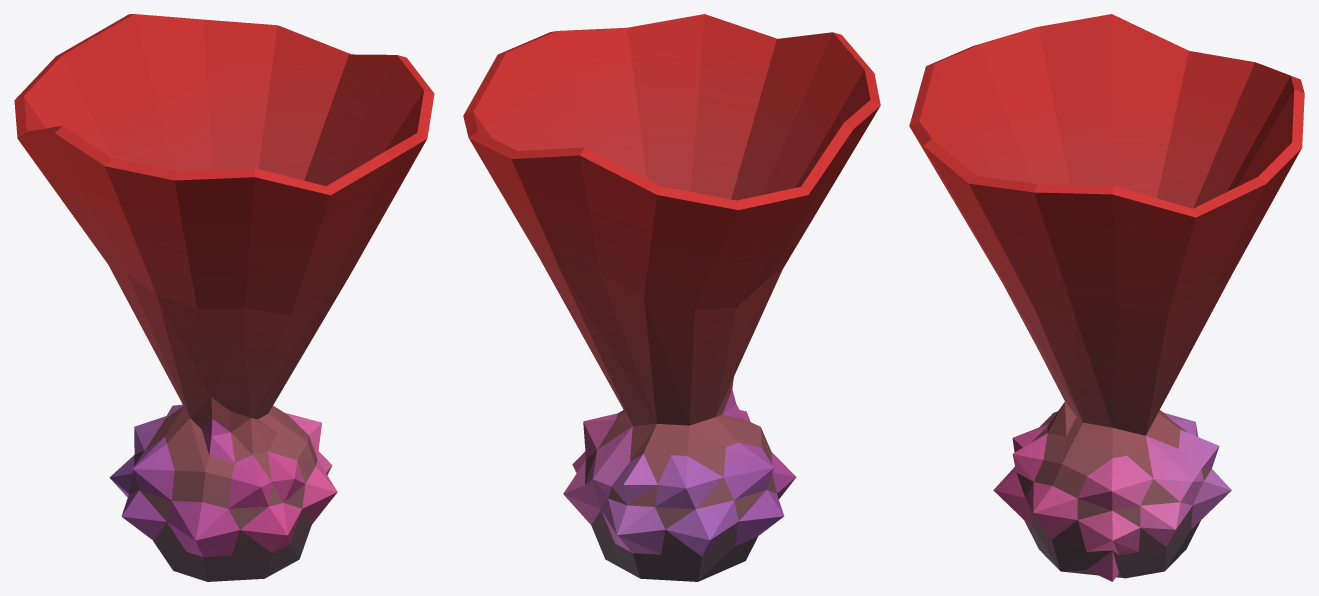
The model's file is Coral_007.glb.
The picture shows the model from 3 angles, left to right: view 1: azimuth 30°, elevation 25°; view 2: azimuth 150°, elevation 25°; view 3: azimuth 270°, elevation 25°; orthographic projection. The views are drawn at different scales.
Visible parts, largest first — view 1: Coral_007; view 2: Coral_007; view 3: Coral_007.
Part boxes in pixels (box(x1,y1,x2,y2)): Coral_007: box(14, 14, 434, 581); Coral_007: box(463, 14, 880, 581); Coral_007: box(909, 14, 1304, 581).
Size of the model in its own units: 0.4252 by 0.5403 by 0.4209.
1 material, 1 textured.
